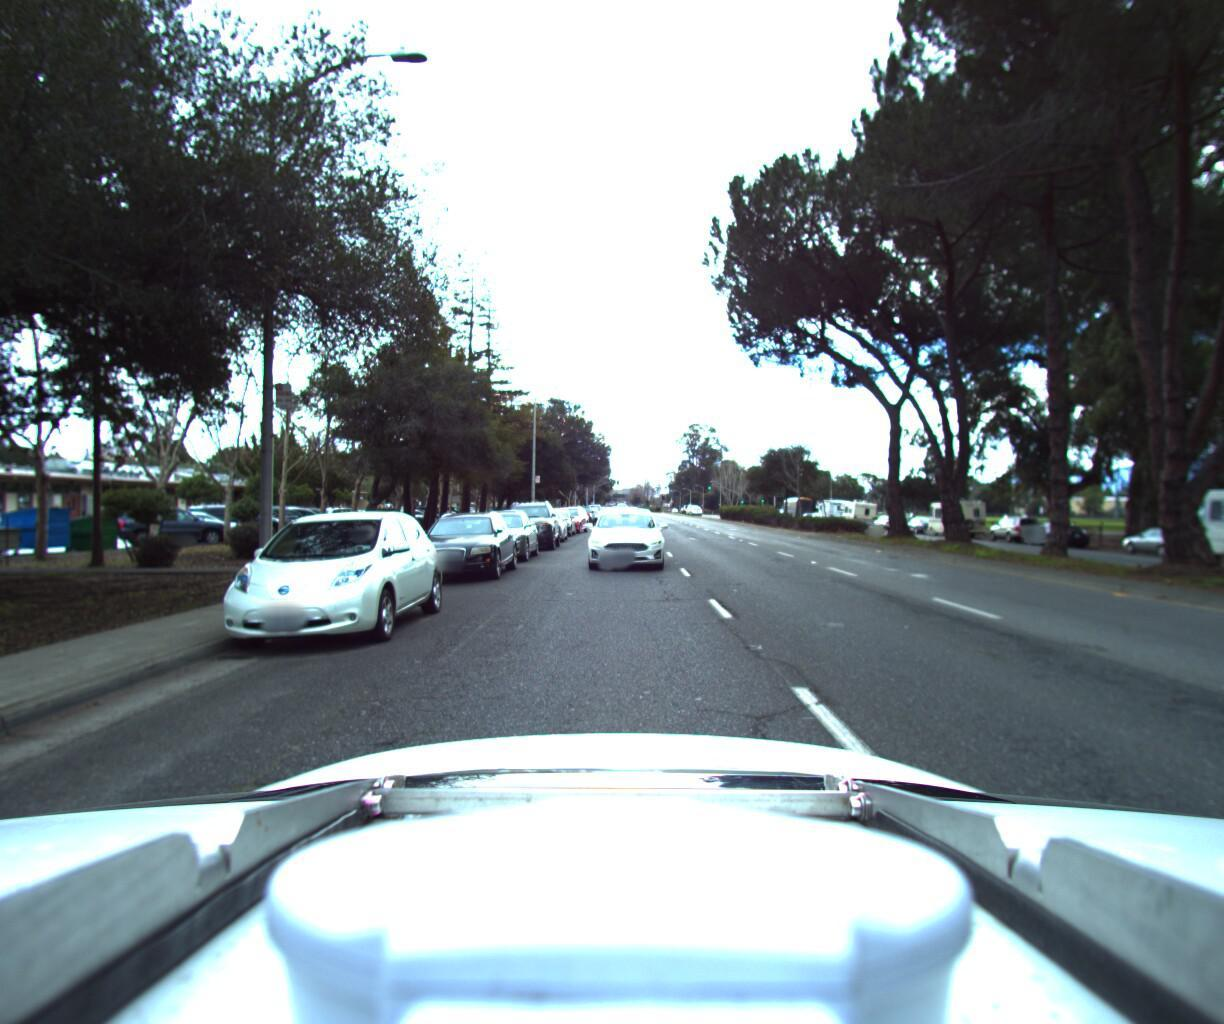car: (189, 505, 453, 664), (402, 504, 524, 586), (580, 501, 665, 570), (457, 502, 544, 564), (1114, 518, 1213, 555), (496, 493, 561, 549), (1020, 513, 1094, 543), (981, 506, 1048, 538), (521, 501, 567, 539), (533, 502, 576, 533), (546, 499, 589, 528), (888, 506, 920, 526)
other_vehicle: (1170, 467, 1224, 580), (921, 488, 993, 533)
